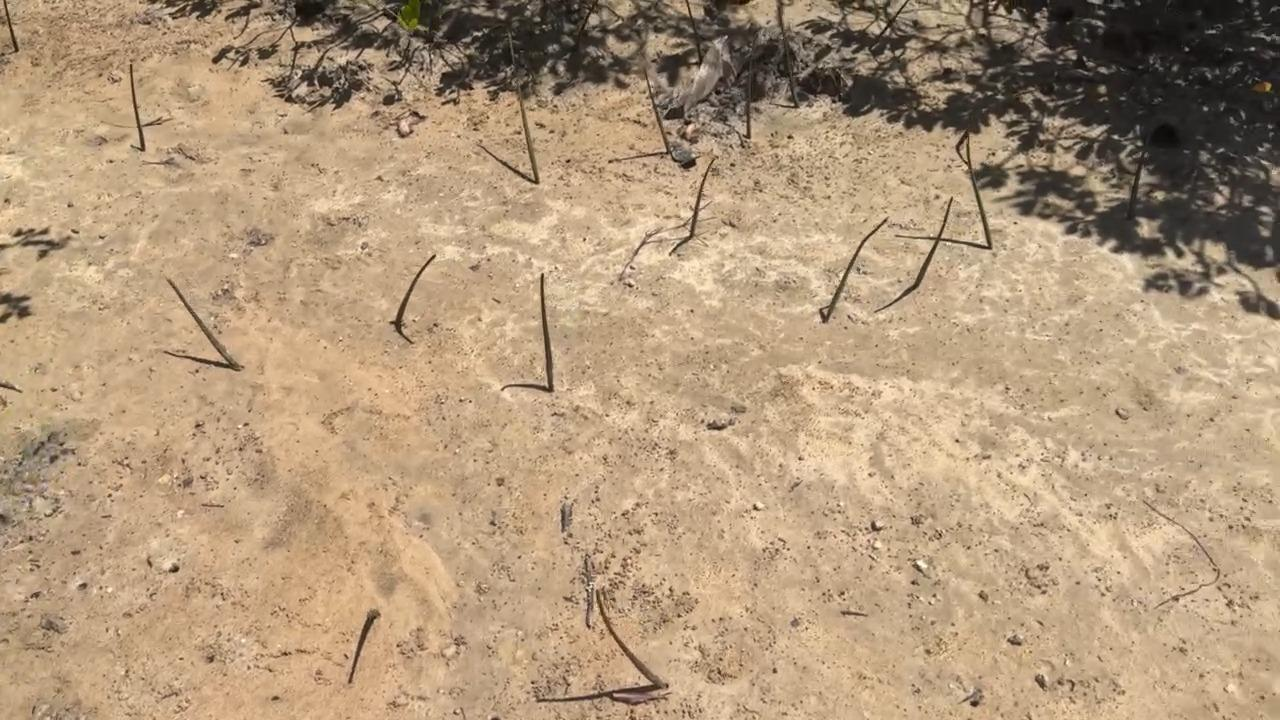Tree: (594, 588, 669, 692), (165, 275, 243, 371), (823, 216, 891, 321), (506, 29, 542, 184), (912, 196, 954, 291), (964, 123, 994, 250), (394, 253, 437, 329), (1126, 120, 1156, 222), (776, 4, 802, 109), (642, 65, 673, 153), (689, 158, 715, 239), (539, 271, 556, 394), (127, 62, 147, 153), (684, 0, 702, 65), (743, 45, 752, 141), (4, 0, 19, 53), (365, 607, 384, 622)
